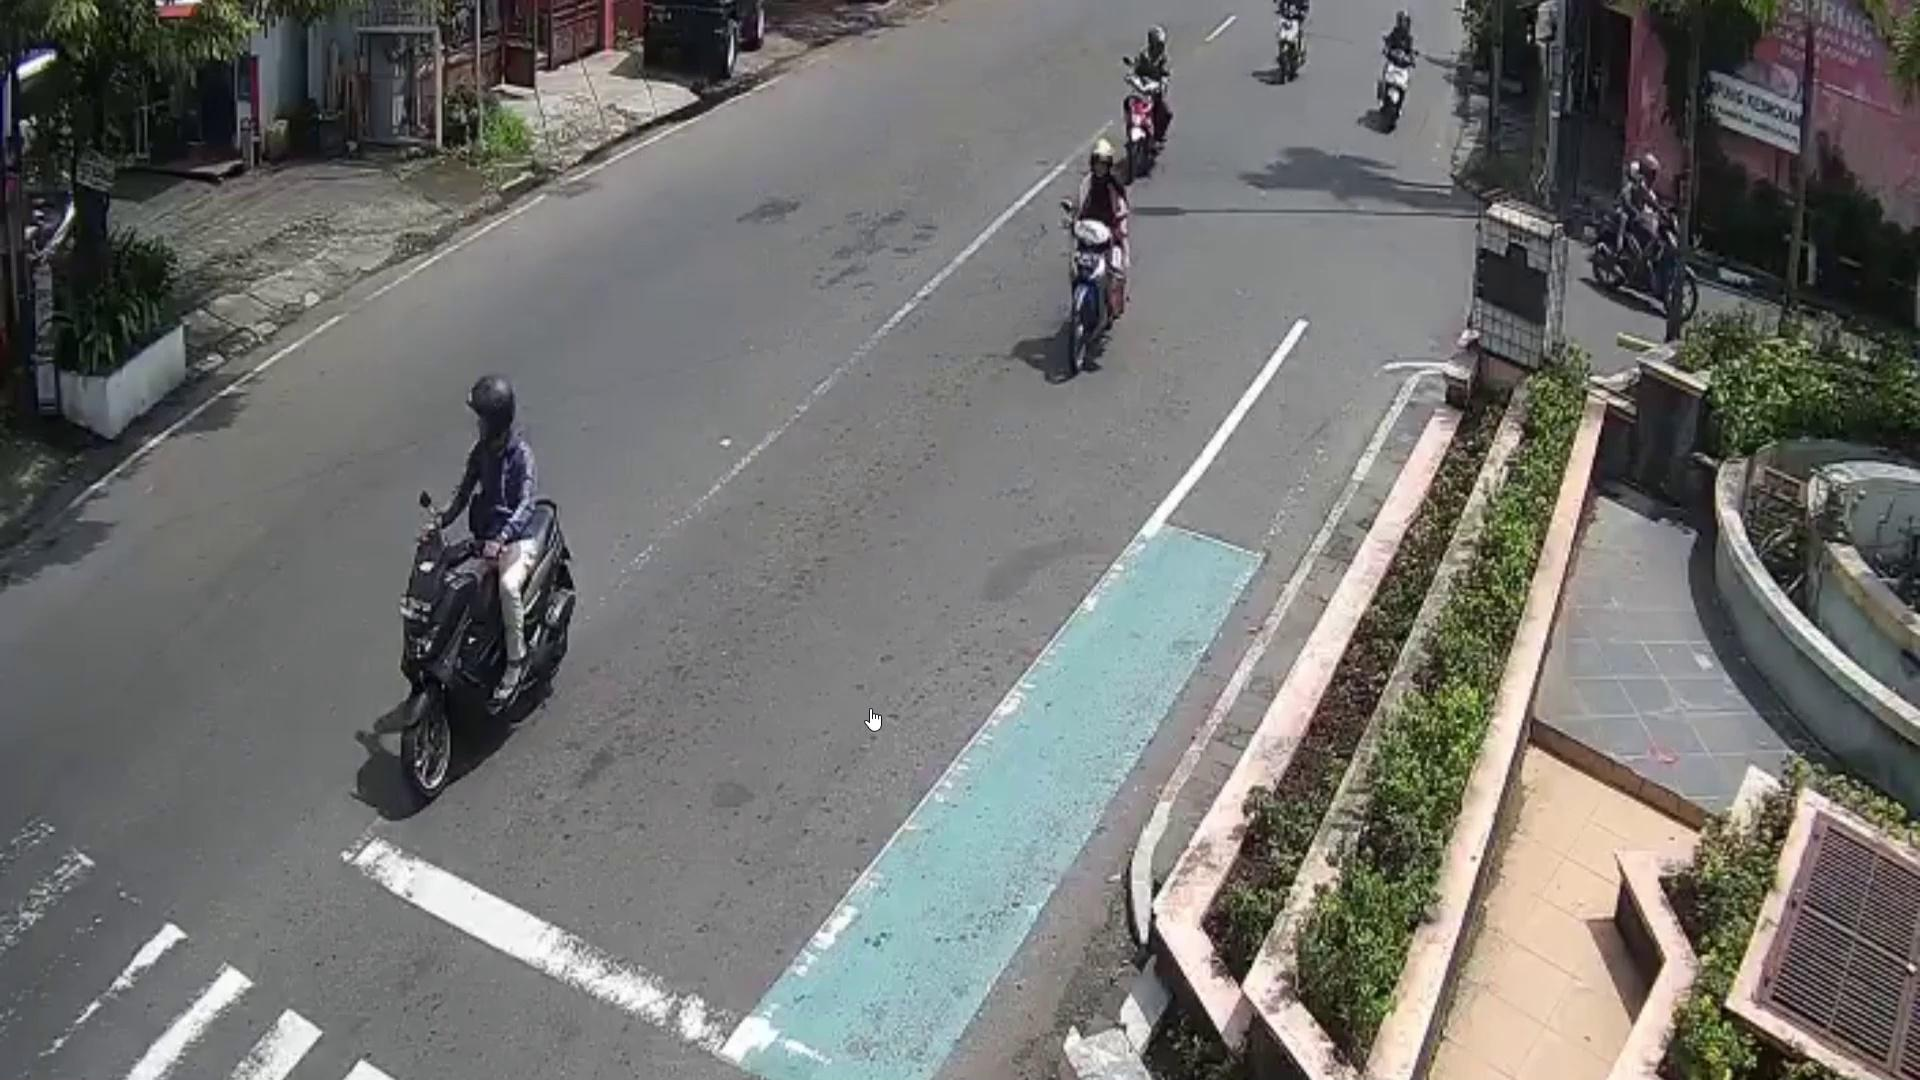motorbike: (388, 493, 578, 795), (1592, 204, 1697, 322), (1064, 216, 1112, 371), (1122, 70, 1166, 173), (1274, 4, 1304, 82), (1386, 46, 1414, 131)
